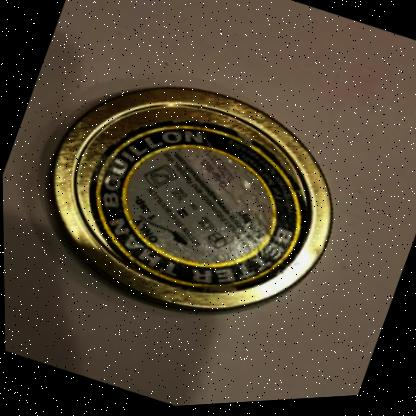Metal: (50, 89, 330, 317)
